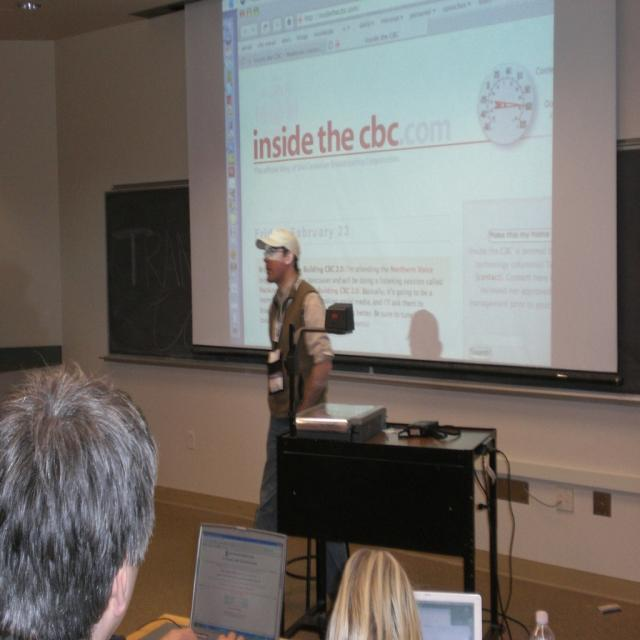desk: (272, 420, 506, 602)
laptop: (188, 522, 289, 640), (412, 591, 482, 640)
person: (0, 363, 195, 640), (254, 227, 334, 531), (325, 546, 425, 640)
tv: (203, 2, 632, 392)
